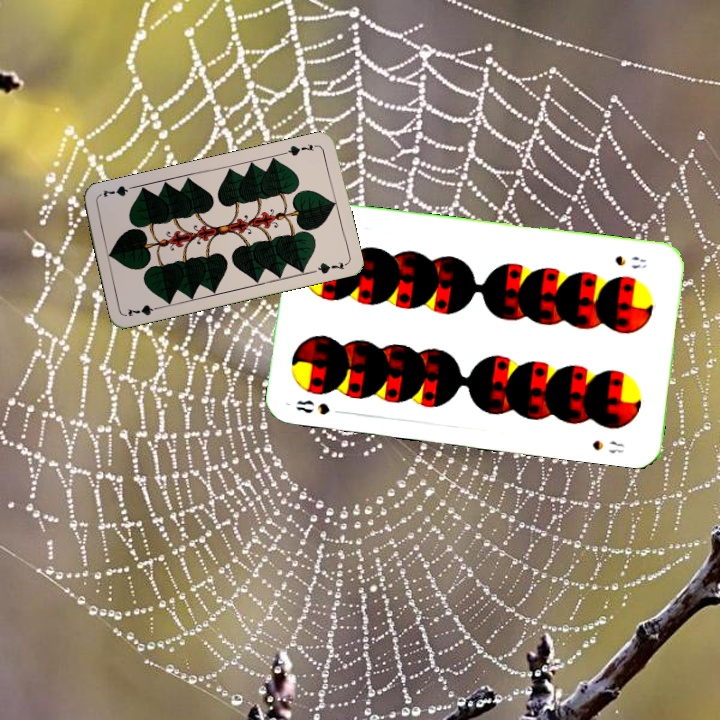G7: (124, 301, 164, 319), (280, 140, 320, 158)
S8: (292, 396, 332, 417), (611, 251, 649, 272)
